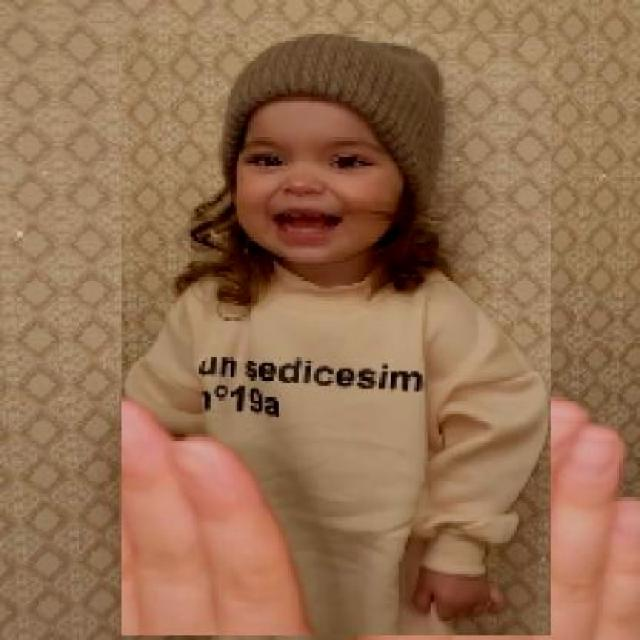child: (120, 34, 551, 637)
